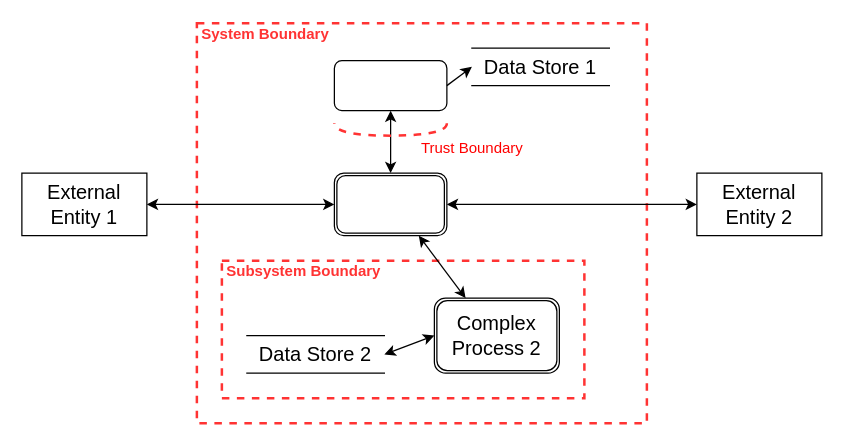
Some shapes in this 844 by 445 pixel diagram are drawn without their labels. Here are the shapes that lost their labels. From the top down, the centre of each, then its label:
At point 390,85: "Simple Process".
At point 390,204: "Complex Process 1".
